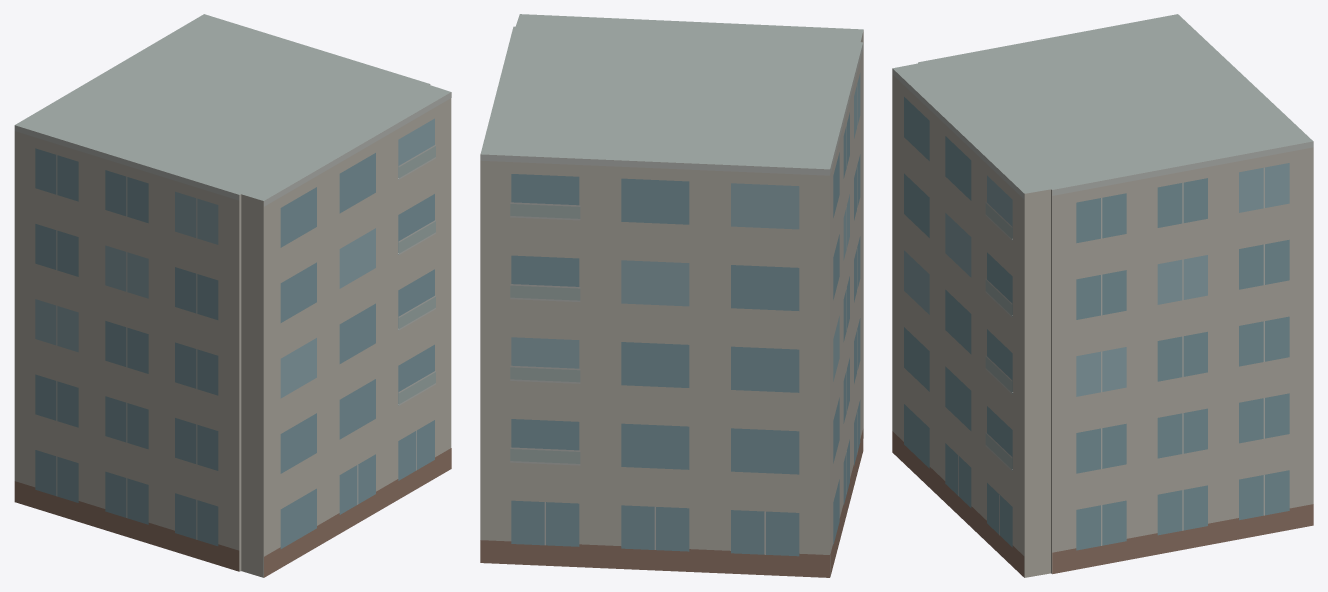
The model's file is survey-upis-32679468.glb.
3 renders of one model, left to right at view 1: azimuth 30°, elevation 25°; view 2: azimuth 150°, elevation 25°; view 3: azimuth 270°, elevation 25°, orthographic. The views are drawn at different scales.
Parts seen in each view (by area): view 1: survey-upis-32679468.tmp; view 2: survey-upis-32679468.tmp; view 3: survey-upis-32679468.tmp.
Boxes of the visible parts, left/top/right/bottom form: survey-upis-32679468.tmp: left=14, top=14, right=451, bottom=577; survey-upis-32679468.tmp: left=480, top=14, right=863, bottom=577; survey-upis-32679468.tmp: left=892, top=14, right=1313, bottom=577.
Size of the model in its own units: 15.77 by 15.7 by 15.61.
